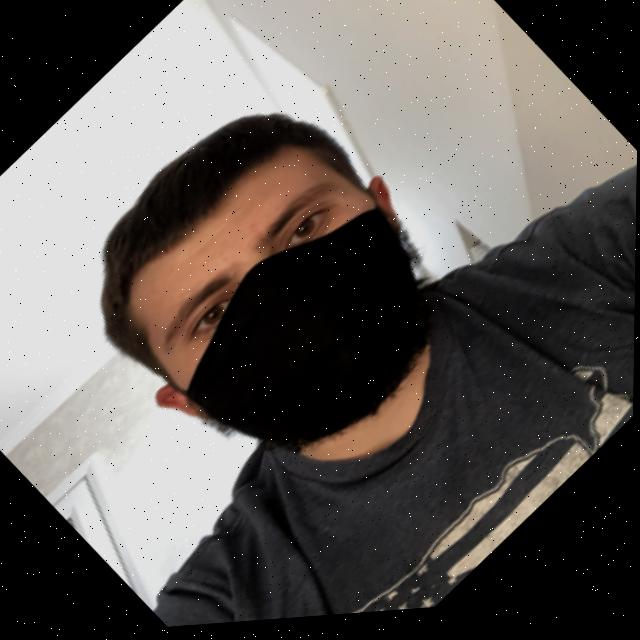Mask: (159, 170, 487, 504)
